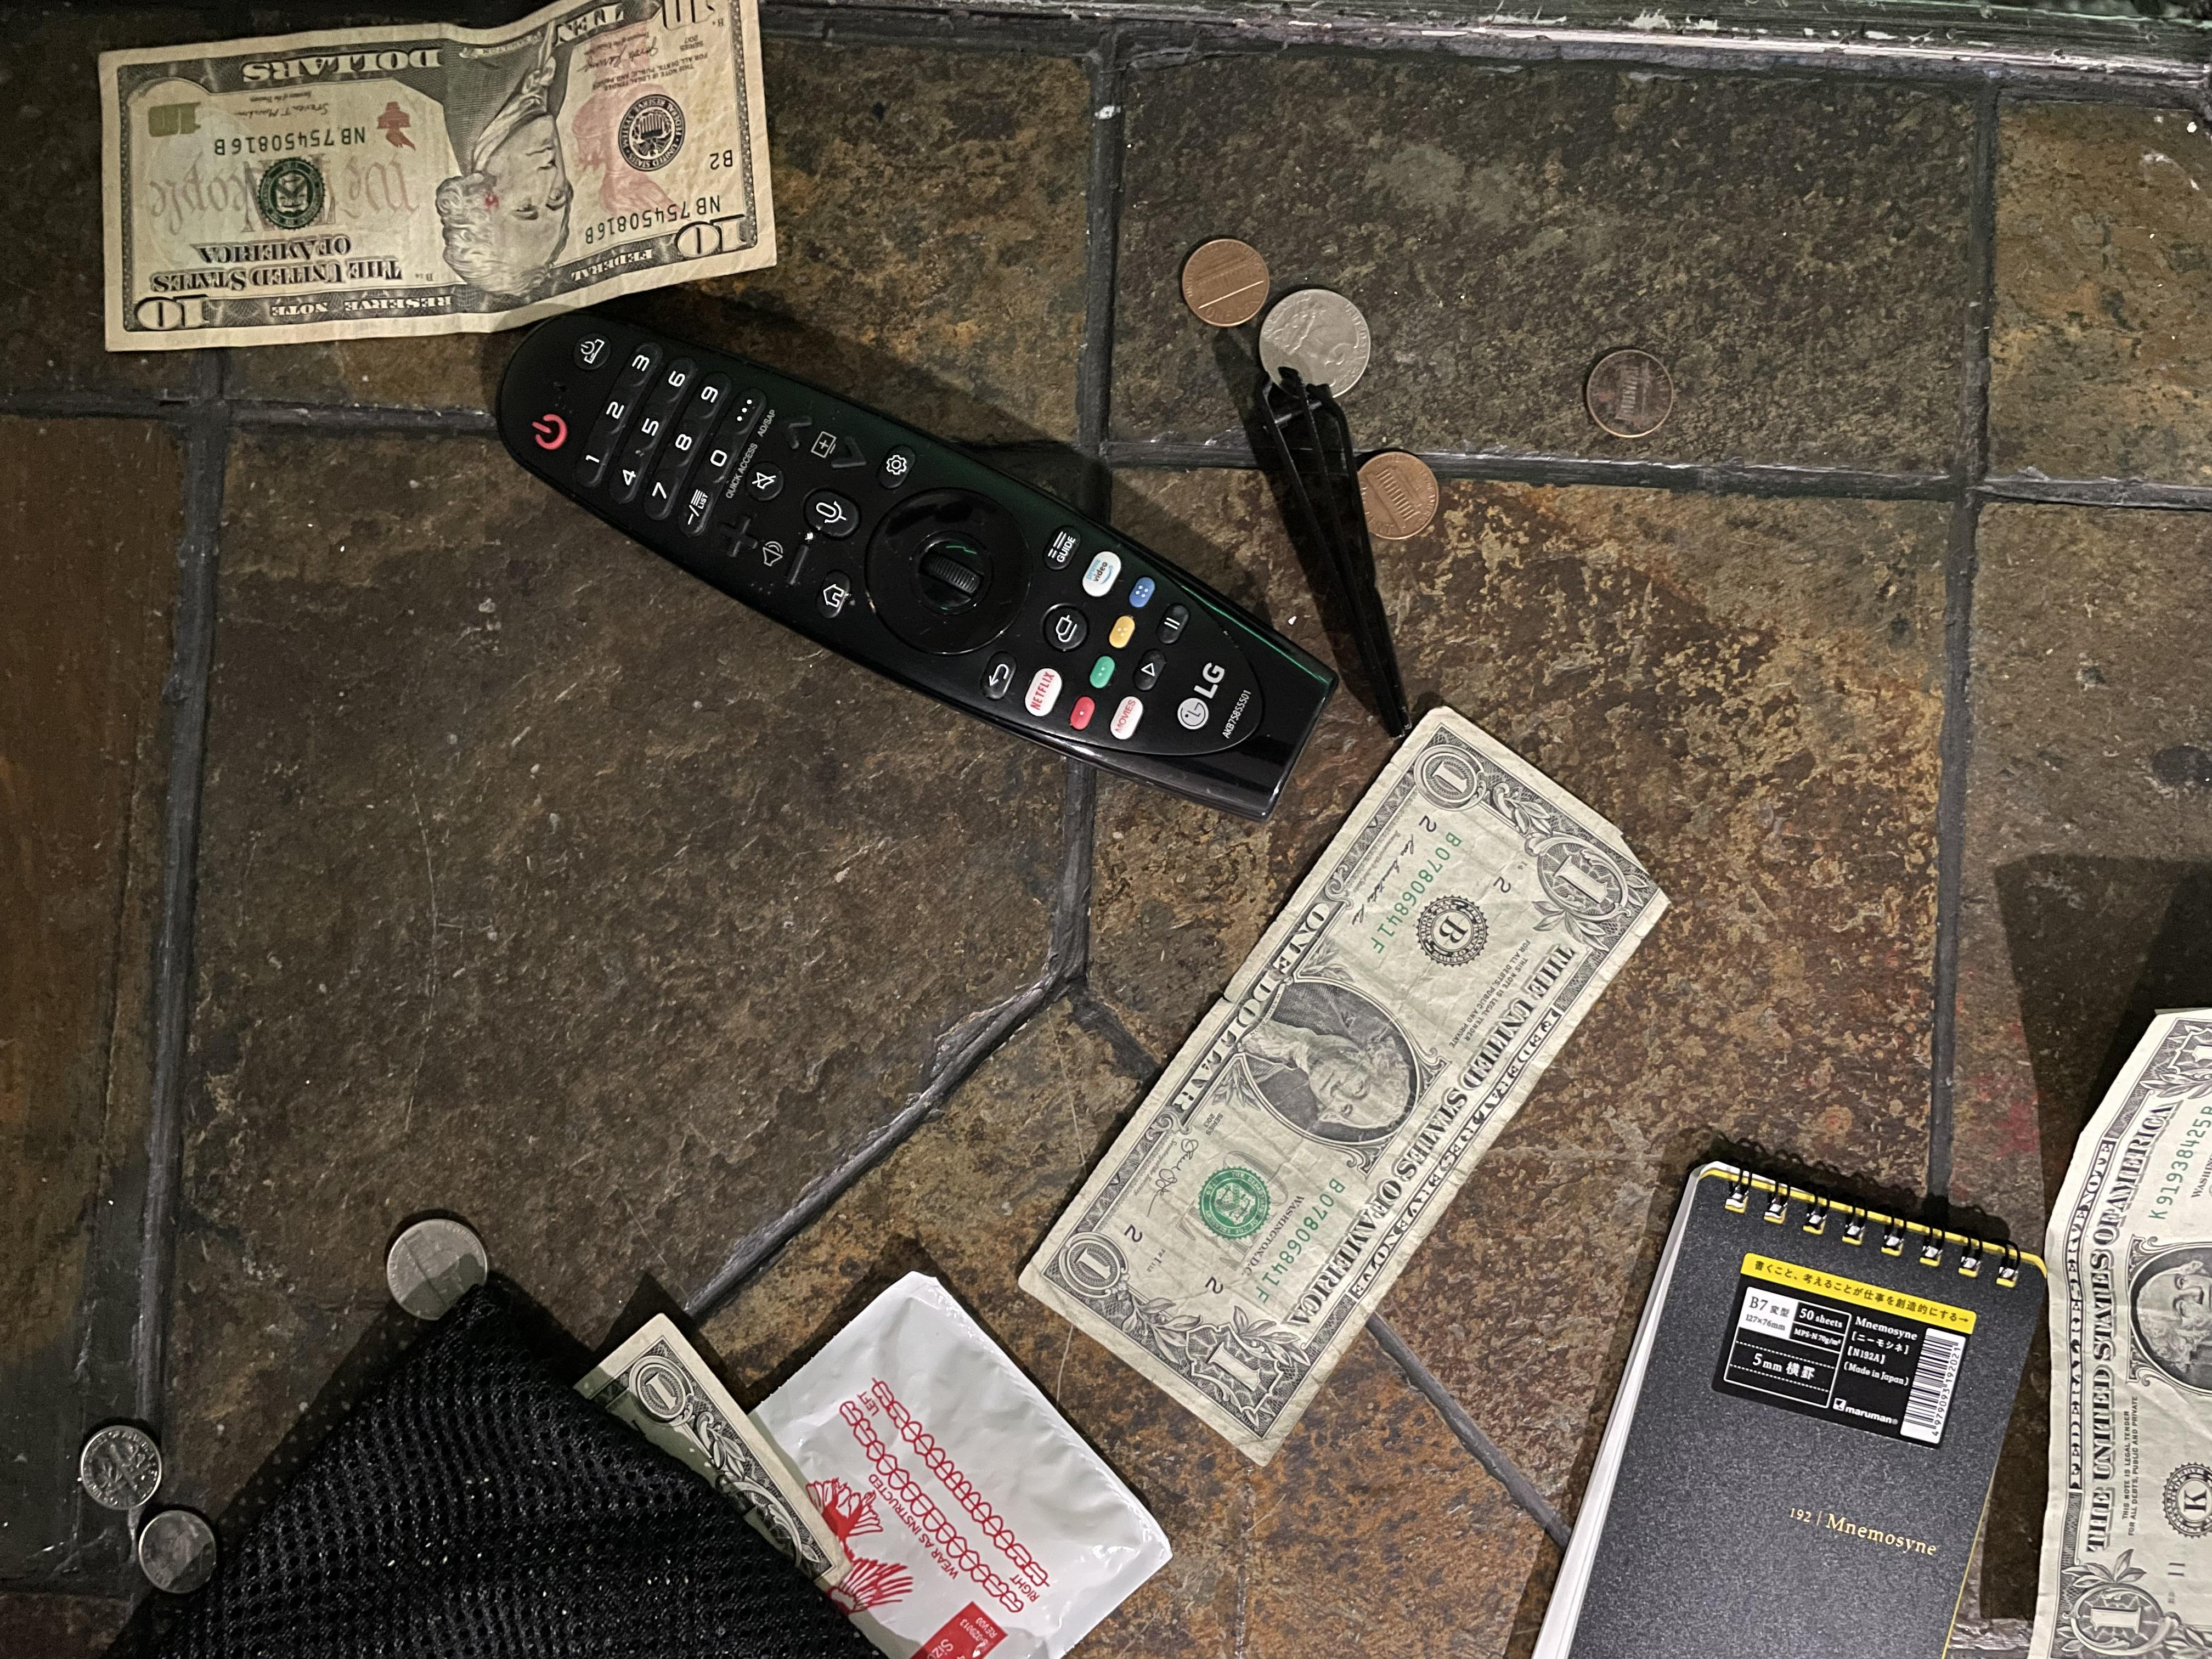Dime: (122, 1511, 235, 1595), (68, 1425, 174, 1511)
Nickel: (380, 1211, 509, 1324)
OneBill: (1007, 699, 1700, 1493)
Penny: (1331, 446, 1460, 547), (1174, 225, 1282, 326), (1587, 340, 1688, 444)
Quarter: (1244, 282, 1395, 404)
TenBill: (87, 2, 831, 397)
